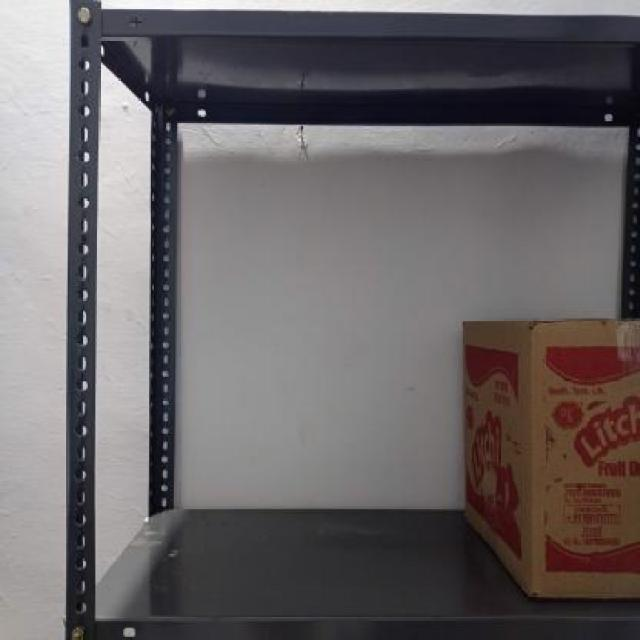box: (466, 319, 540, 598)
